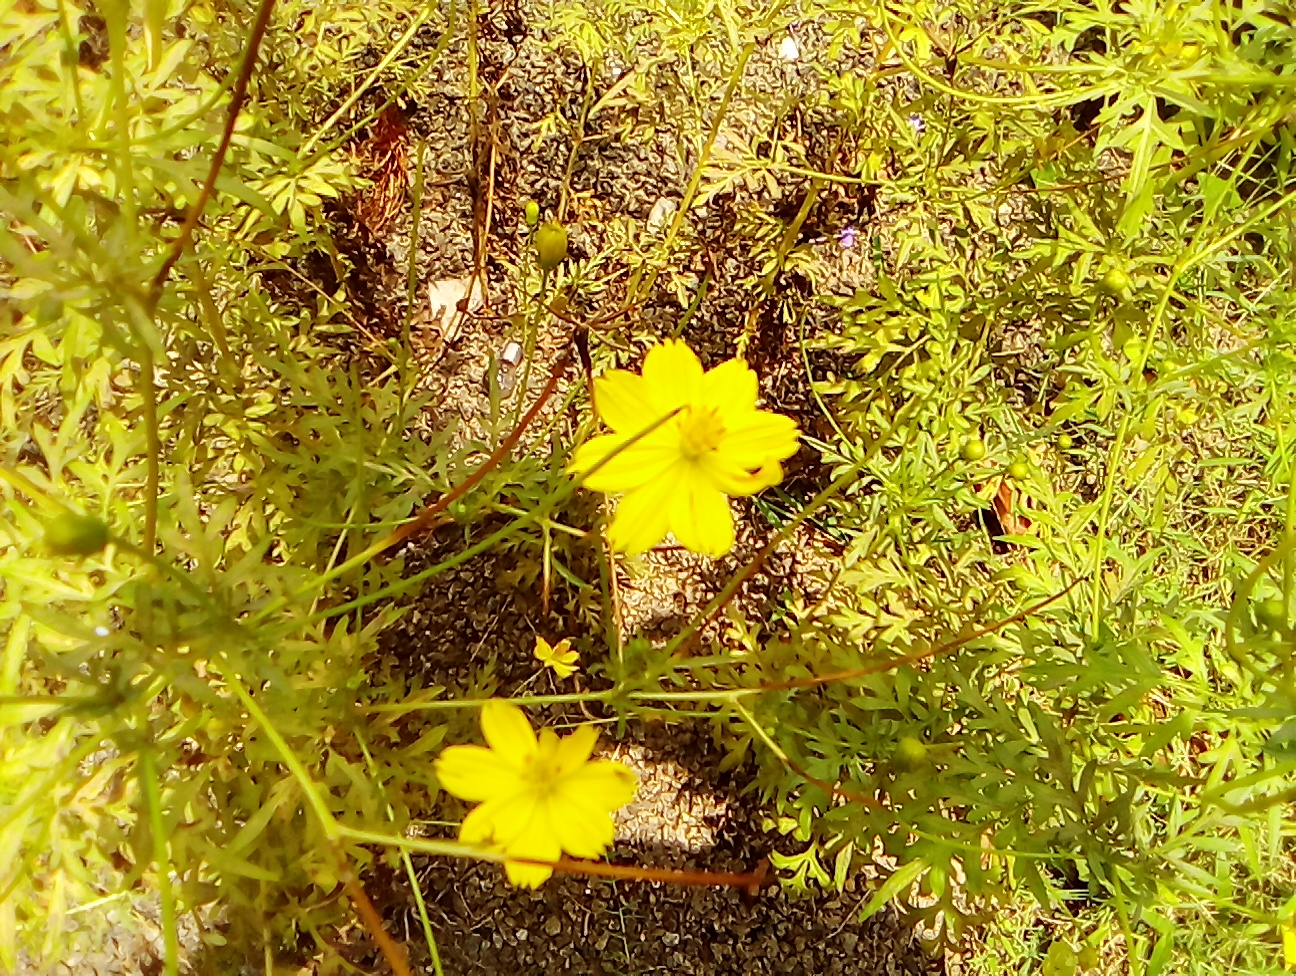kahamala: (405, 684, 710, 903), (579, 359, 796, 565)
